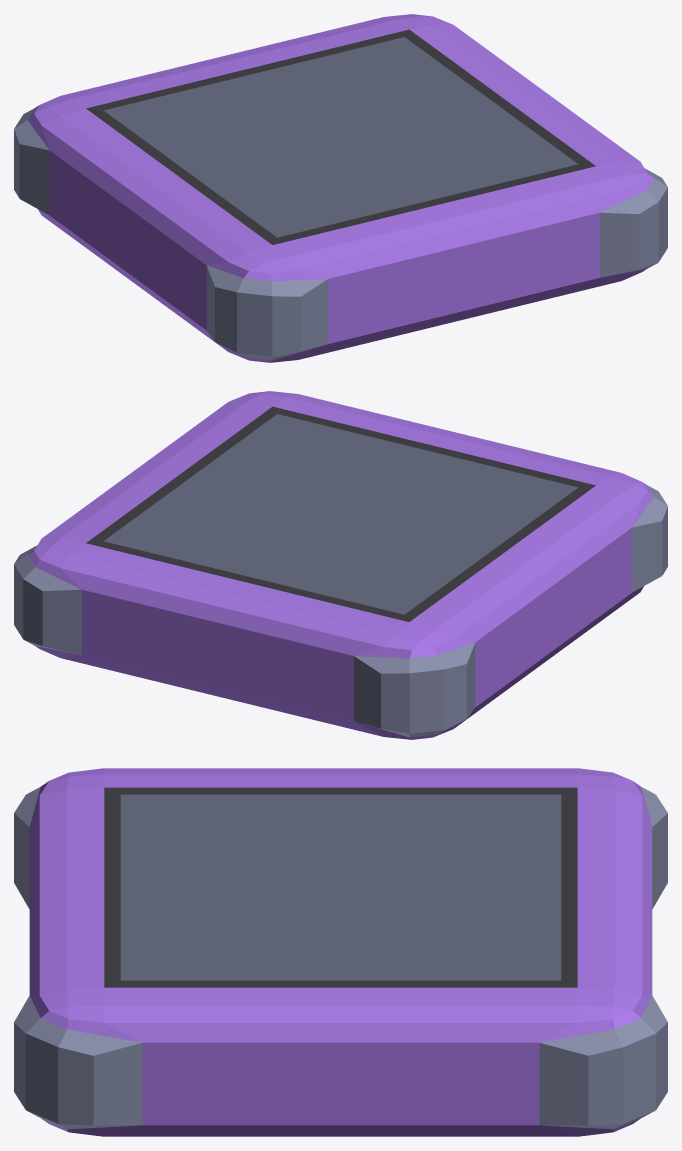
The model's file is PlataformScalable.glb.
3 renders of one model, top to bottom at view 1: azimuth 30°, elevation 25°; view 2: azimuth 150°, elevation 25°; view 3: azimuth 270°, elevation 25°, orthographic. The views are drawn at different scales.
Visible parts, largest first — view 1: Cube; view 2: Cube; view 3: Cube.
Boxes of the visible parts, x1,y1,x2,y2 form: Cube: (14, 14, 667, 362); Cube: (14, 391, 667, 739); Cube: (14, 768, 667, 1136).
Bounding box in the file's own units: 6.67 × 1.46 × 6.67.
